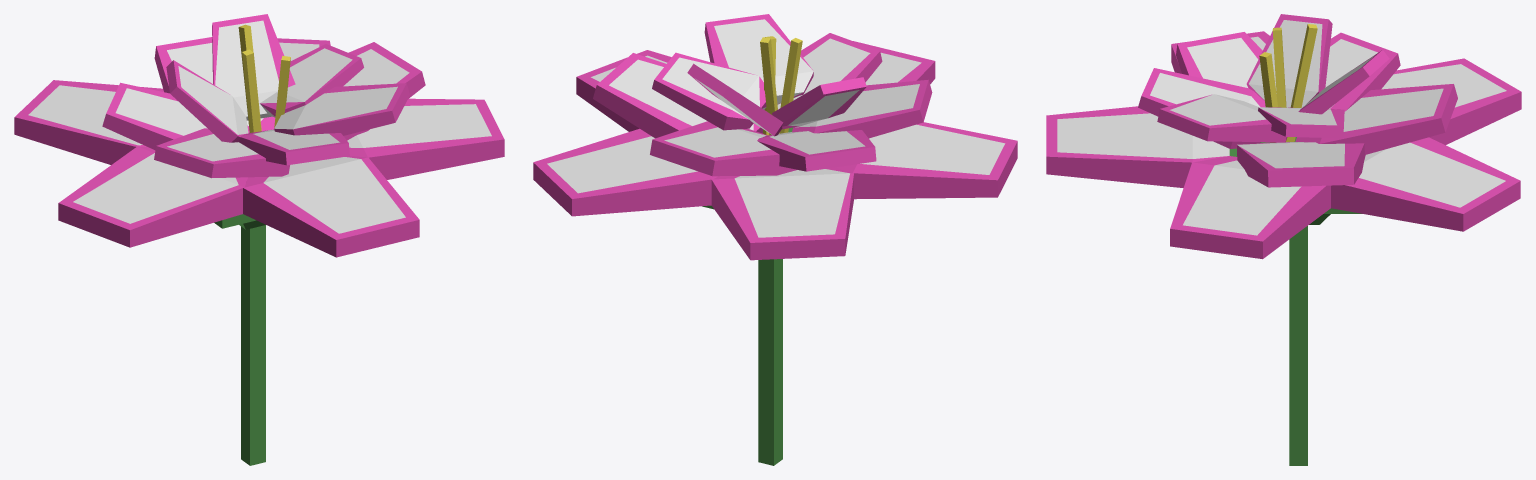
File: item_azalea.fbx
3 views of the same model, side by side, from view 1: azimuth 30°, elevation 25°; view 2: azimuth 150°, elevation 25°; view 3: azimuth 270°, elevation 25° (orthographic). The views are drawn at different scales.
Visible parts, largest first — view 1: item_azalea; view 2: item_azalea; view 3: item_azalea.
Boxes of the visible parts, x1,y1,x2,y2 form: item_azalea: (14,14,504,465); item_azalea: (533,14,1017,465); item_azalea: (1046,14,1521,465).
Bounding box in the file's own units: 680 × 657 × 649.
